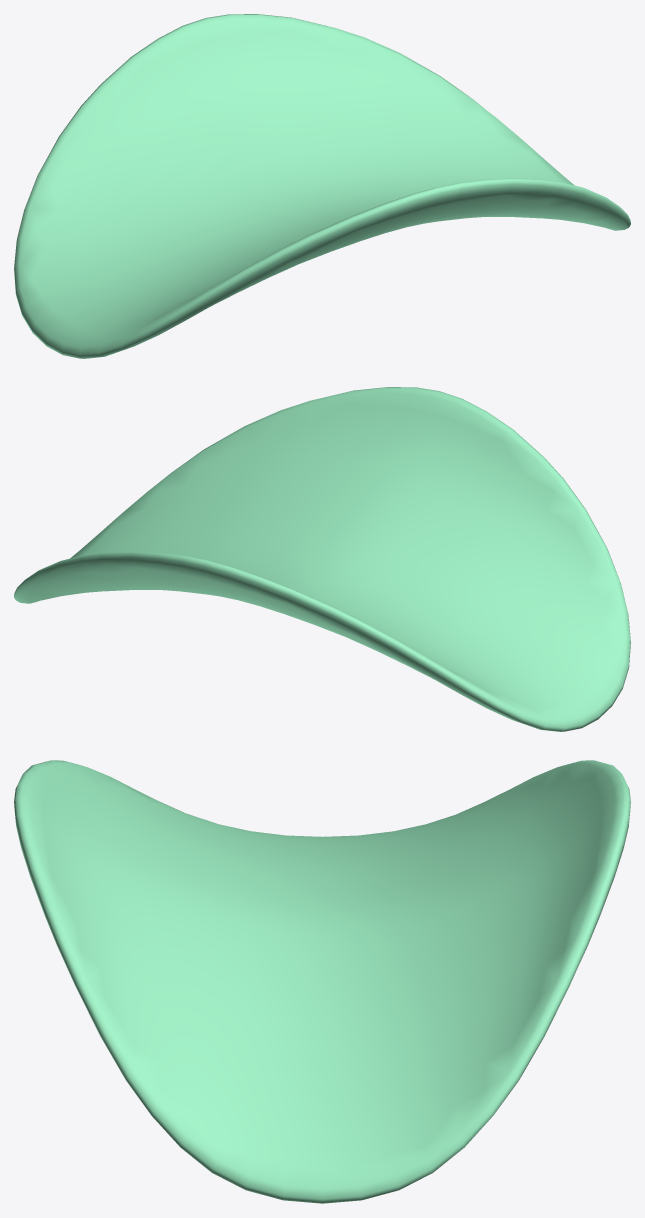
File: ЧИПС1.glb
The picture shows the model from 3 angles, top to bottom: view 1: azimuth 30°, elevation 25°; view 2: azimuth 150°, elevation 25°; view 3: azimuth 270°, elevation 25°; orthographic projection. The views are drawn at different scales.
Visible parts, largest first — view 1: Box014; view 2: Box014; view 3: Box014.
Boxes of the visible parts, x1,y1,x2,y2 form: Box014: [14, 14, 630, 358]; Box014: [14, 387, 630, 731]; Box014: [14, 760, 630, 1203].
Size of the model in its own units: 0.4644 by 0.1419 by 0.3424.
